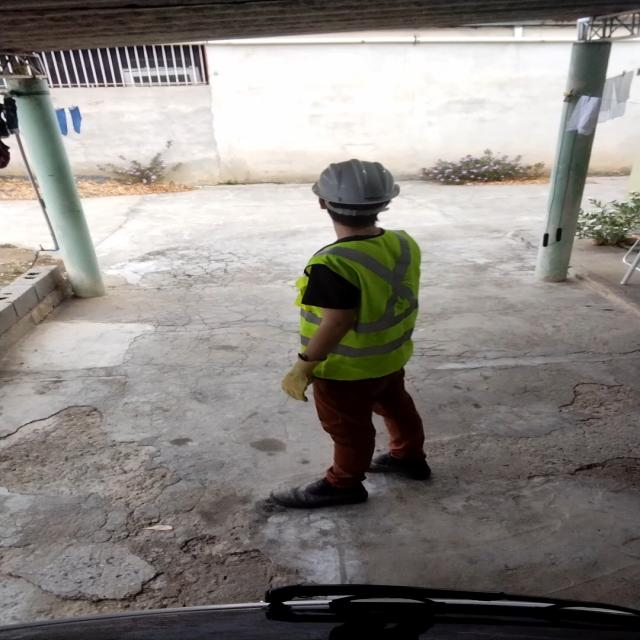glove: (276, 354, 336, 404)
helmet: (299, 157, 412, 223)
pants: (305, 374, 430, 471)
vest: (290, 232, 424, 382)
